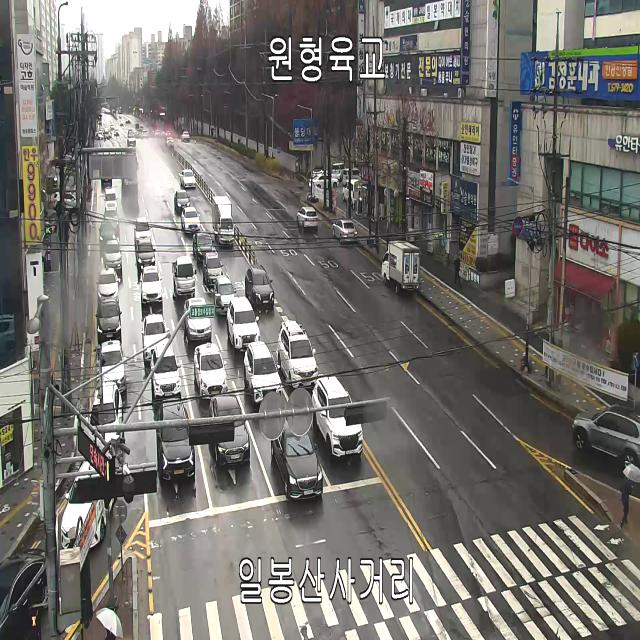Car: (61, 459, 115, 550), (270, 416, 324, 501), (0, 549, 49, 640), (572, 404, 640, 468), (312, 376, 363, 458), (157, 398, 195, 482), (208, 395, 250, 468), (277, 320, 318, 390), (244, 342, 282, 409), (89, 381, 122, 458), (194, 343, 228, 399), (227, 296, 260, 352), (150, 344, 182, 401), (99, 340, 128, 393), (141, 314, 170, 362), (184, 297, 212, 345), (244, 264, 274, 306), (95, 298, 122, 341), (214, 275, 236, 315), (140, 266, 162, 304), (96, 268, 119, 304), (203, 252, 223, 286), (53, 191, 82, 214), (193, 231, 214, 262), (137, 239, 156, 271), (332, 219, 357, 243), (342, 179, 362, 206), (98, 223, 118, 250), (104, 241, 122, 270), (134, 217, 152, 246), (297, 206, 318, 229), (182, 208, 200, 234), (309, 173, 339, 188), (103, 207, 119, 231), (174, 190, 190, 213), (342, 169, 362, 186), (104, 188, 118, 211), (180, 169, 196, 188), (332, 162, 344, 182), (313, 167, 328, 179), (101, 179, 112, 189), (181, 131, 190, 142), (127, 137, 136, 146), (165, 137, 173, 147), (104, 127, 109, 138), (142, 130, 148, 138), (114, 129, 120, 136), (110, 124, 114, 129)
Truck: (381, 240, 420, 294), (212, 196, 235, 244), (172, 256, 196, 298), (122, 153, 138, 187)
